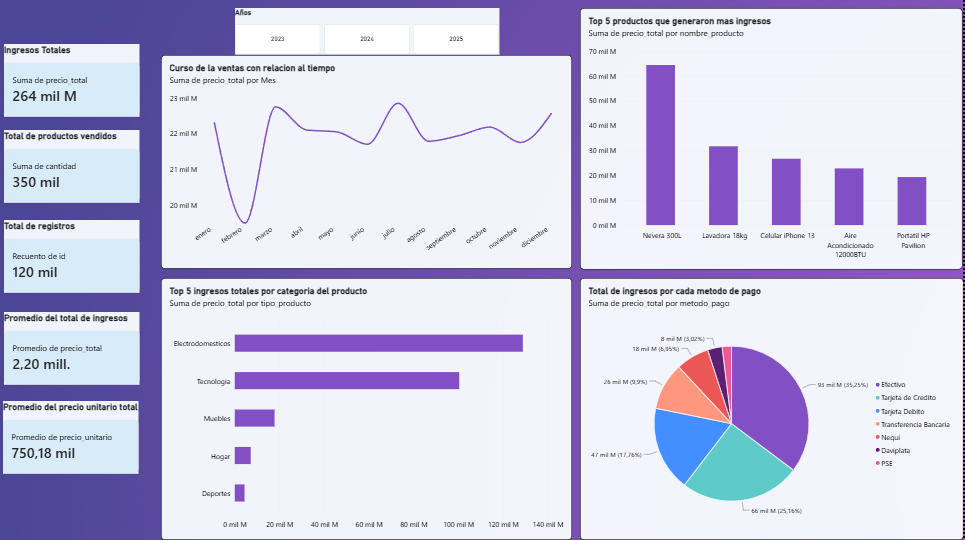

Layout of this report page (visuals, bound fields, positions):
{"tool":"powerbi","page":{"name":"Página pincipal","canvas":[1920,1080],"ordinal":0},"visuals":[{"type":"cardVisual","title":"Ingresos Totales","fields":{"Data":["Sum(public ventas_colombia.precio_total)"]},"box":[10.8,90.7,270.5,144.5],"z":0},{"type":"cardVisual","title":"Total de productos vendidos","fields":{"Data":["Sum(public ventas_colombia.cantidad)"]},"box":[10.8,263.5,270.5,144.5],"z":1000},{"type":"cardVisual","title":"Total de registros","fields":{"Data":["CountNonNull(public ventas_colombia.id)"]},"box":[10.8,442.8,270.5,144.5],"z":2000},{"type":"cardVisual","title":"Promedio del total de ingresos","fields":{"Data":["Avg(public ventas_colombia.precio_total)"]},"box":[10.8,626.4,270.5,144.5],"z":3000},{"type":"cardVisual","title":"Promedio del precio unitario total","fields":{"Data":["Avg(public ventas_colombia.precio_unitario)"]},"box":[8.6,803.5,270.5,144.5],"z":4000},{"type":"lineChart","title":"Curso de la ventas con relacion al tiempo","fields":{"Category":["public ventas_colombia.fecha.Variación.Jerarquía de fechas.Mes"],"Y":["Sum(public ventas_colombia.precio_total)"]},"box":[322.7,114.1,818.8,425.9],"z":5000},{"type":"advancedSlicerVisual","title":"Años","fields":{"Values":["public ventas_colombia.fecha.Variación.Jerarquía de fechas.Año"]},"box":[469.8,19.8,527,92.9],"z":6000},{"type":"columnChart","title":"Top 5 productos que generaron mas ingresos","fields":{"Category":["public ventas_colombia.nombre_producto"],"Y":["Sum(public ventas_colombia.precio_total)"]},"box":[1156.8,19.8,762.5,520.6],"z":7000},{"type":"pieChart","title":"Total de ingresos por cada metodo de pago","fields":{"Category":["public ventas_colombia.metodo_pago"],"Y":["Sum(public ventas_colombia.precio_total)"]},"box":[1156.8,557.6,763.9,522.4],"z":8000},{"type":"clusteredBarChart","title":"Top  5 ingresos totales por categoria del producto","fields":{"Category":["public ventas_colombia.tipo_producto"],"Y":["Sum(public ventas_colombia.precio_total)"]},"box":[322.7,557.6,818.8,522.4],"z":9000}]}

Visuals, with their boxes in screenshot pixels (x1, y1, x2, y2), scaled from the page's 1920x1080 canvas onto the 965x540 screenshot:
"Ingresos Totales" cardVisual: 5, 45, 141, 118
"Total de productos vendidos" cardVisual: 5, 132, 141, 204
"Total de registros" cardVisual: 5, 221, 141, 294
"Promedio del total de ingresos" cardVisual: 5, 313, 141, 385
"Promedio del precio unitario total" cardVisual: 4, 402, 140, 474
"Curso de la ventas con relacion al tiempo" lineChart: 162, 57, 574, 270
"Años" advancedSlicerVisual: 236, 10, 501, 56
"Top 5 productos que generaron mas ingresos" columnChart: 581, 10, 964, 270
"Total de ingresos por cada metodo de pago" pieChart: 581, 279, 964, 539
"Top  5 ingresos totales por categoria del producto" clusteredBarChart: 162, 279, 574, 539
